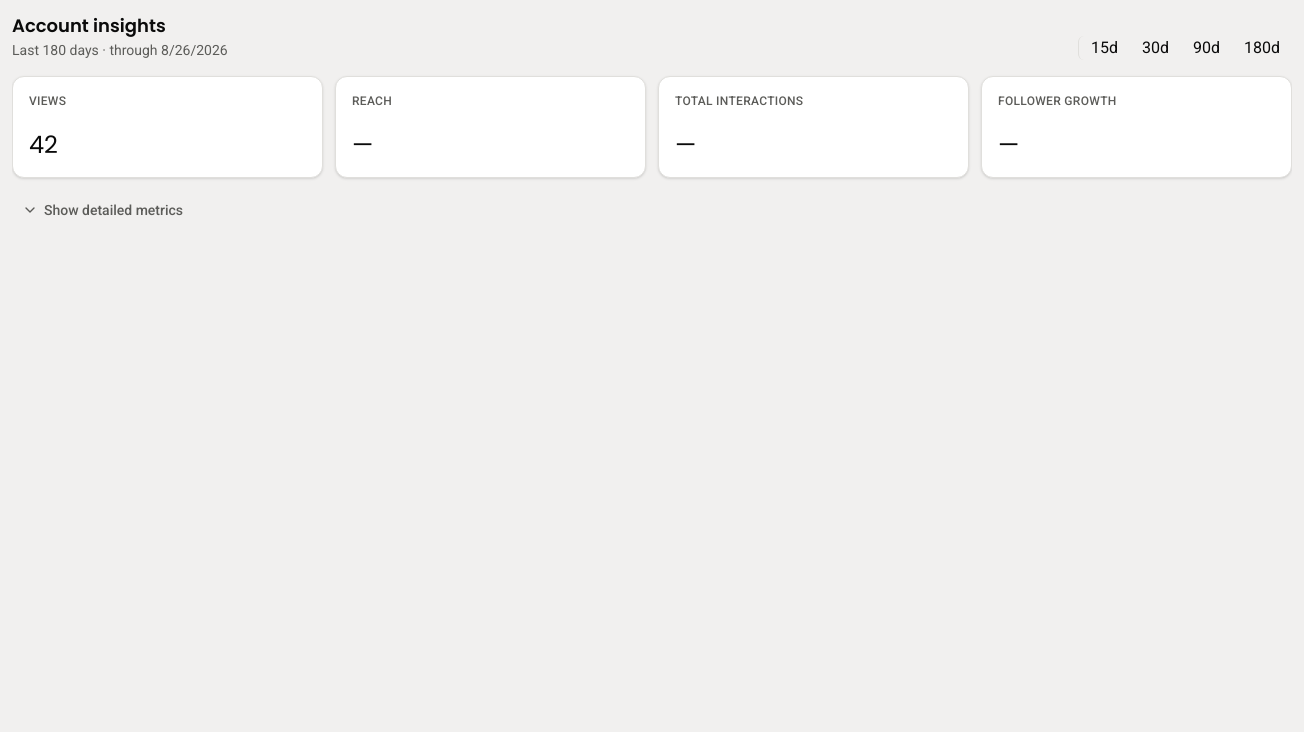
Test: IgAccountInsightsPanel › keeps detailed metrics collapsed until requested
This screenshot has width=1304, height=732.
Expected: the text "Likes" is not shown
Step 1. Click the button "Show detailed metrics" → (103, 210), box [12,194,193,226]
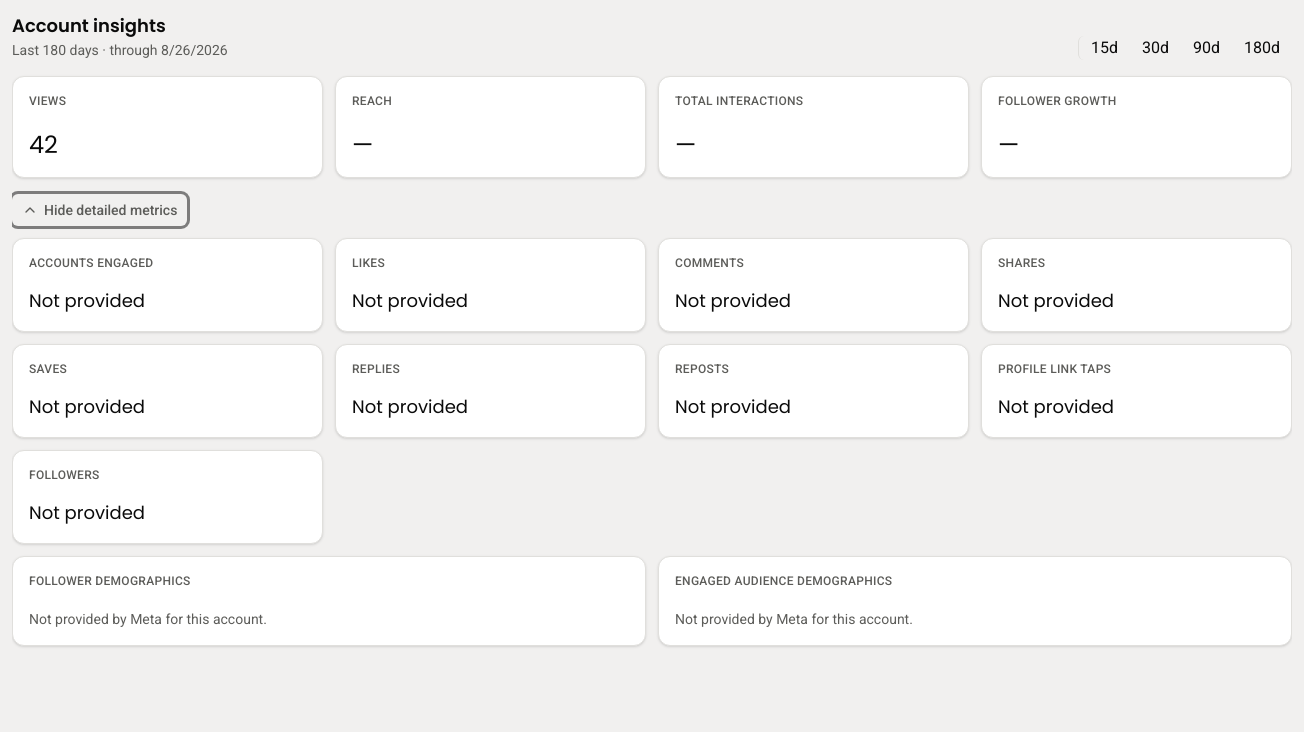
Expected: the text "Likes" is shown, [352,256,385,270]
